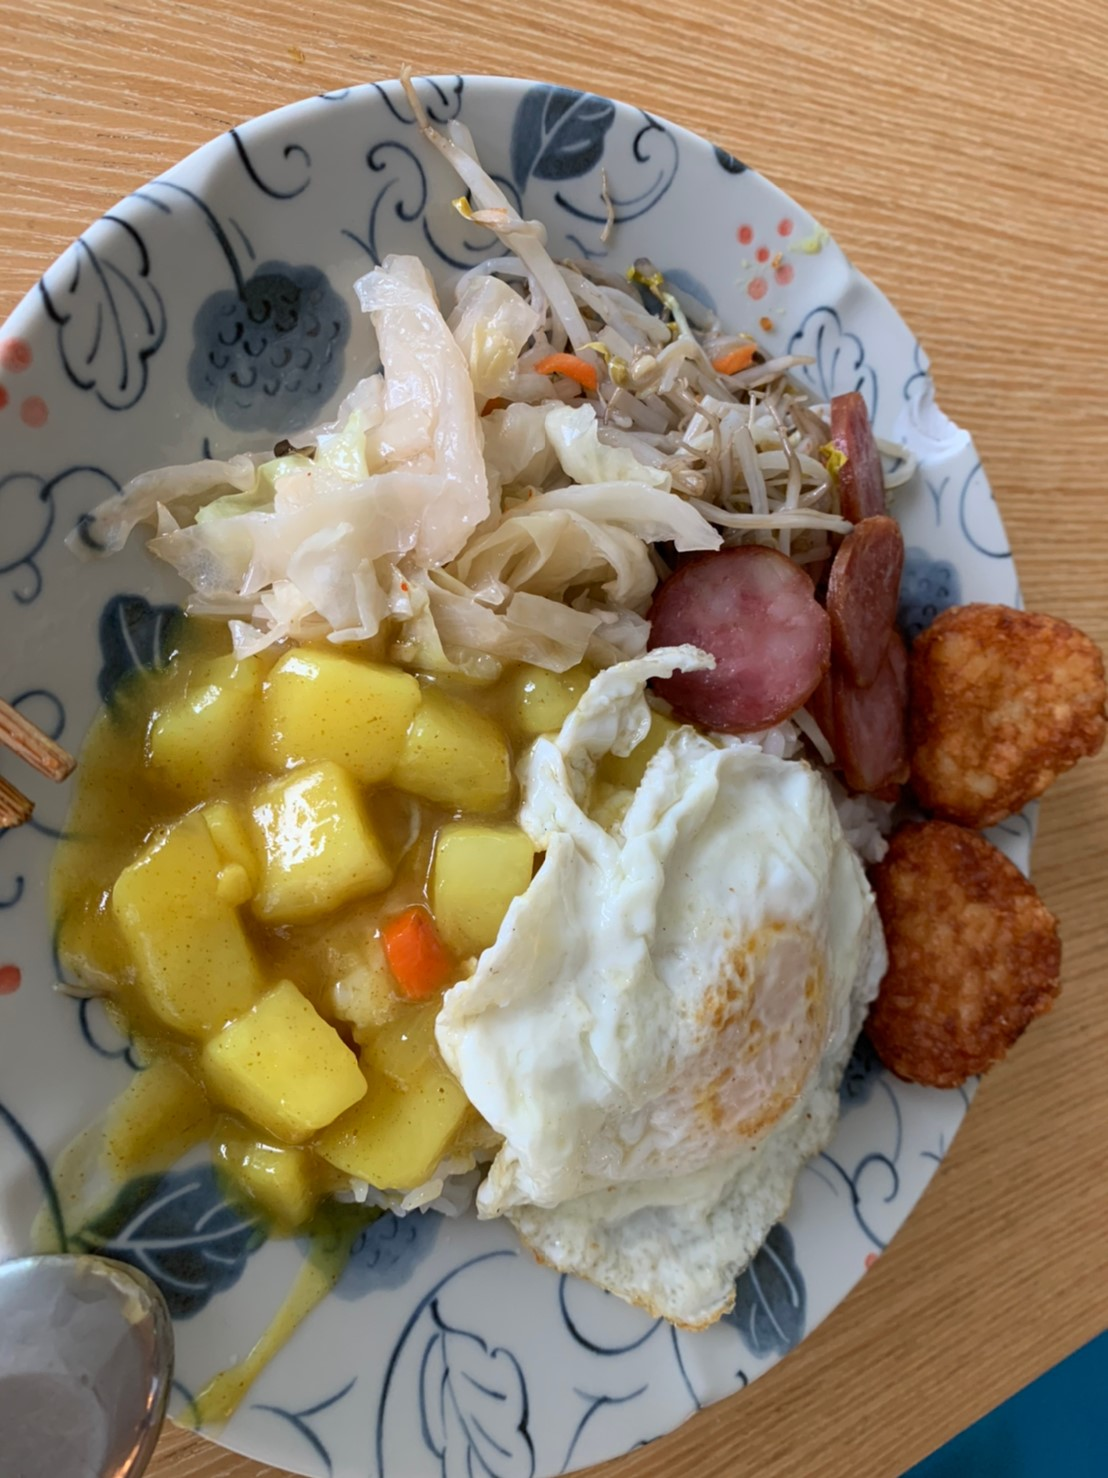chinese_cabbage: (149, 292, 645, 654)
chinese_sausage: (660, 511, 910, 816)
curry: (81, 639, 521, 1200)
fried_eggs: (480, 660, 879, 1310)
mung_bean_sprouts: (556, 287, 825, 481)
triangle_hash_brown: (881, 599, 1108, 1092)
